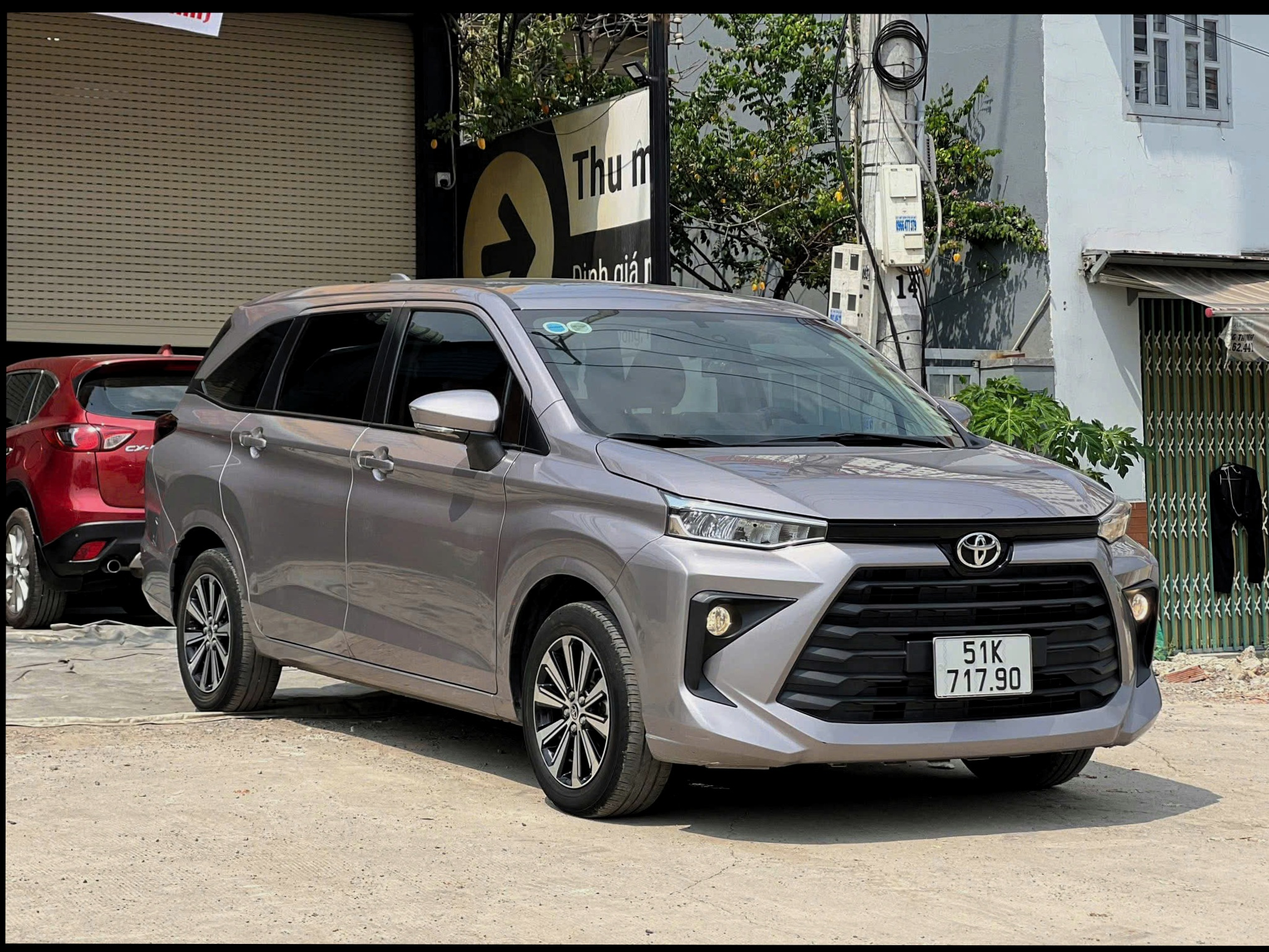Bien-so: (950, 624, 1062, 700)
